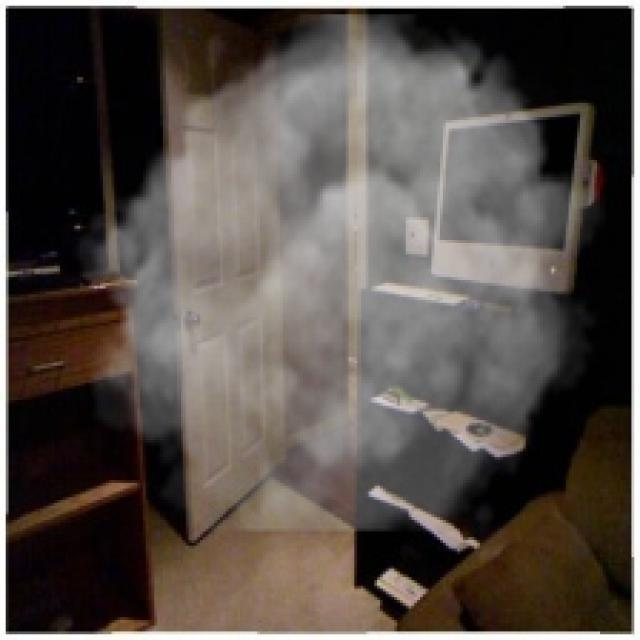Smoke: (71, 14, 606, 532)
